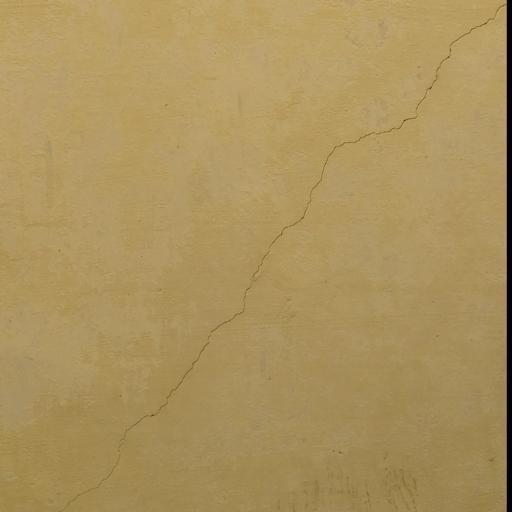minor_crack: (47, 19, 512, 512)
